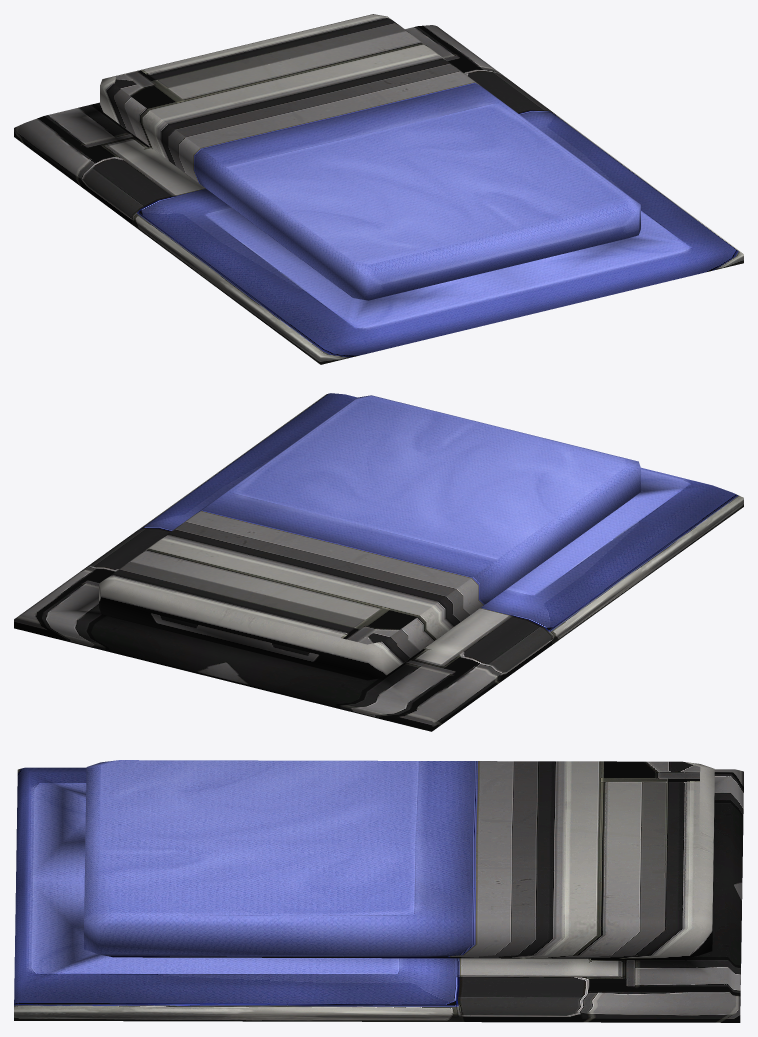
Rendered from bed1.glb.
3 views of the same model, one above another, from view 1: azimuth 30°, elevation 25°; view 2: azimuth 150°, elevation 25°; view 3: azimuth 270°, elevation 25° (orthographic). The views are drawn at different scales.
Parts seen in each view (by area): view 1: Box01; view 2: Box01; view 3: Box01.
Part boxes in pixels (box(x1,y1,x2,y2)): Box01: box(14, 14, 743, 364); Box01: box(14, 393, 743, 731); Box01: box(14, 760, 743, 1022).
Size of the model in its own units: 119 by 14.37 by 151.
1 material, 1 textured.
